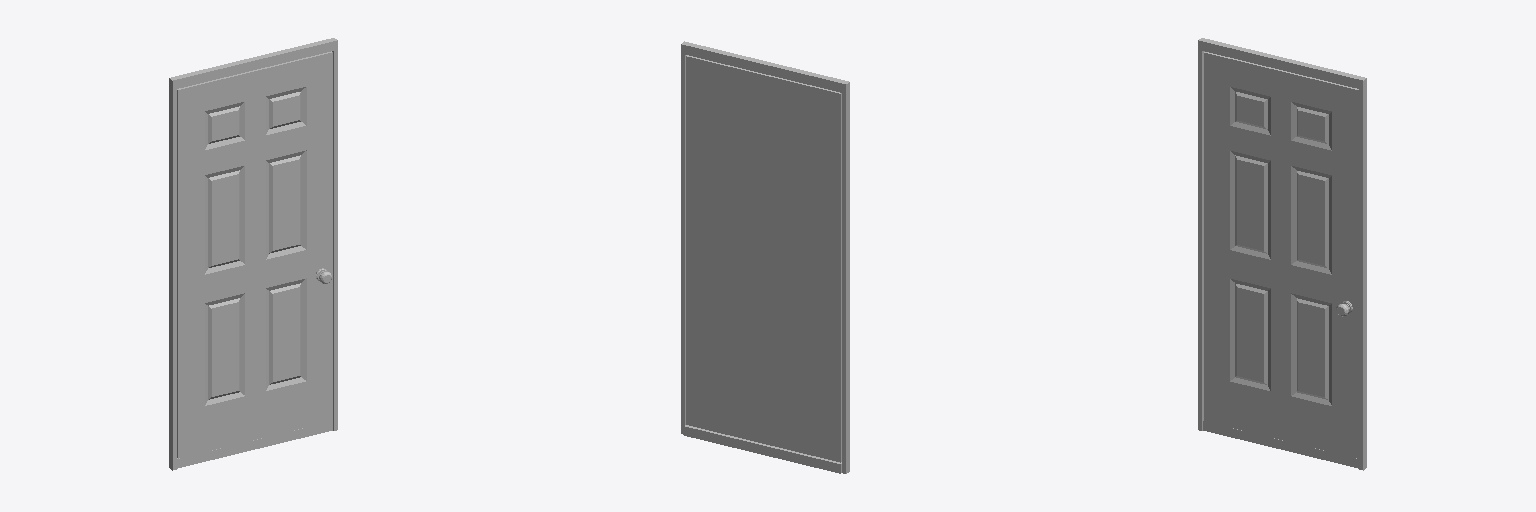
Rendered from Three_Panel_Door.obj.
The picture shows the model from 3 angles: view 1: azimuth 30°, elevation 25°; view 2: azimuth 150°, elevation 25°; view 3: azimuth 330°, elevation 25°; orthographic projection.
Visible parts, largest first — view 1: Door_Door_Door.001, Trim_Door_Trim_Door_Trim.001, Wood_Wood_Base_Door_Trim.002; view 2: Door_Door_Door.001, Trim_Door_Trim_Door_Trim.001, Wood_Wood_Base_Door_Trim.002; view 3: Door_Door_Door.001, Trim_Door_Trim_Door_Trim.001, Wood_Wood_Base_Door_Trim.002.
Boxes of the visible parts, box(x1,y1,x2,y2) form: Door_Door_Door.001: box(177, 51, 332, 458); Trim_Door_Trim_Door_Trim.001: box(169, 38, 337, 470); Wood_Wood_Base_Door_Trim.002: box(177, 421, 332, 468); Door_Door_Door.001: box(686, 55, 841, 462); Trim_Door_Trim_Door_Trim.001: box(681, 41, 849, 473); Wood_Wood_Base_Door_Trim.002: box(684, 425, 841, 473); Door_Door_Door.001: box(1204, 52, 1358, 458); Trim_Door_Trim_Door_Trim.001: box(1198, 38, 1366, 470); Wood_Wood_Base_Door_Trim.002: box(1203, 421, 1358, 468).
Bounding box in the file's own units: 7.8 × 17.57 × 0.8732.